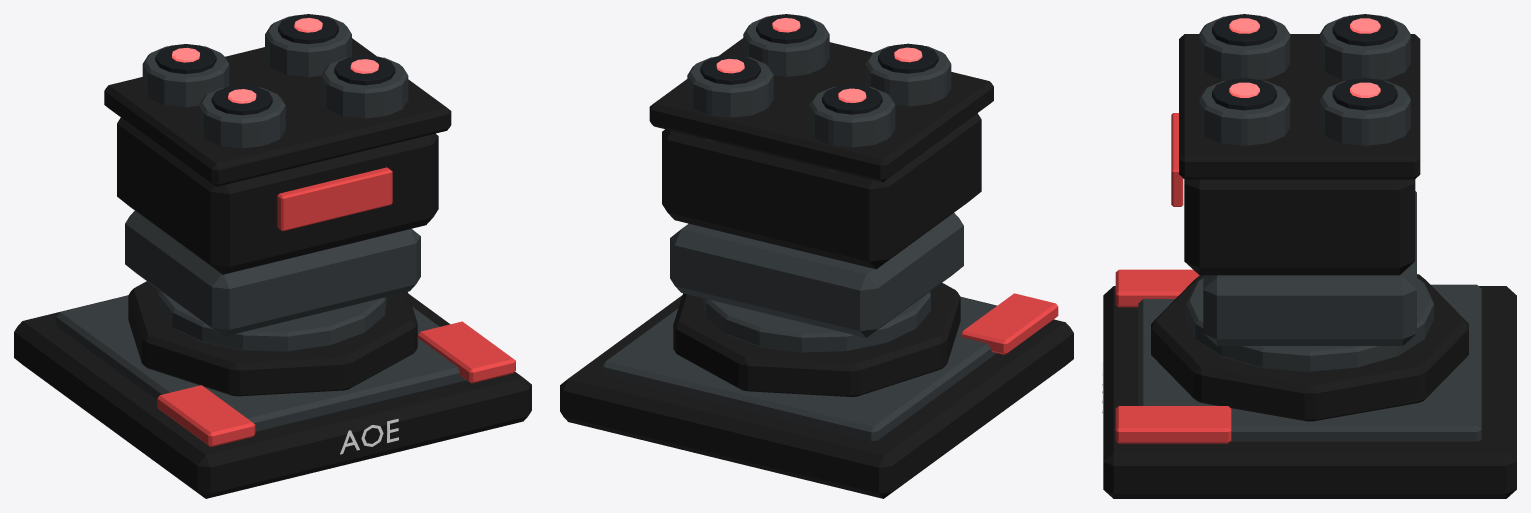
The model's file is tower_aoe.glb.
3 renders of one model, left to right at view 1: azimuth 30°, elevation 25°; view 2: azimuth 150°, elevation 25°; view 3: azimuth 270°, elevation 25°, orthographic. The views are drawn at different scales.
Visible parts, largest first — view 1: Cube040, Cube047_1, Azimuth001_Geometry, Cube040_1, Cube047_2, Cube040_2, Cube047_3, Cube047, Cube047_4; view 2: Cube040, Cube047_1, Cube040_1, Azimuth001_Geometry, Cube047_2, Cube047_3, Cube040_2, Cube047_4; view 3: Cube040, Cube047_1, Cube040_1, Azimuth001_Geometry, Cube047_2, Cube040_2, Cube047_3, Cube047_4, Cube047.
Part boxes in pixels (left/top/right/bottom): Cube040: left=14, top=281, right=531, bottom=498; Cube047_1: left=104, top=38, right=451, bottom=274; Azimuth001_Geometry: left=125, top=211, right=420, bottom=336; Cube040_1: left=56, top=290, right=466, bottom=431; Cube047_2: left=142, top=16, right=408, bottom=148; Cube040_2: left=157, top=321, right=515, bottom=446; Cube047_3: left=155, top=14, right=395, bottom=115; Cube047: left=277, top=167, right=392, bottom=231; Cube047_4: left=172, top=18, right=378, bottom=103; Cube040: left=560, top=283, right=1073, bottom=498; Cube047_1: left=649, top=38, right=993, bottom=269; Cube040_1: left=602, top=291, right=996, bottom=441; Azimuth001_Geometry: left=670, top=213, right=963, bottom=337; Cube047_2: left=687, top=16, right=951, bottom=171; Cube047_3: left=700, top=14, right=938, bottom=114; Cube040_2: left=961, top=293, right=1058, bottom=354; Cube047_4: left=716, top=18, right=922, bottom=102; Cube040: left=1103, top=274, right=1516, bottom=498; Cube047_1: left=1179, top=34, right=1420, bottom=275; Cube040_1: left=1138, top=278, right=1481, bottom=441; Azimuth001_Geometry: left=1203, top=191, right=1416, bottom=345; Cube047_2: left=1199, top=16, right=1410, bottom=145; Cube040_2: left=1115, top=269, right=1231, bottom=443; Cube047_3: left=1212, top=14, right=1397, bottom=110; Cube047_4: left=1229, top=18, right=1380, bottom=97; Cube047: left=1171, top=113, right=1183, bottom=206.
Size of the model in its own units: 1.2 by 1.15 by 1.2.
